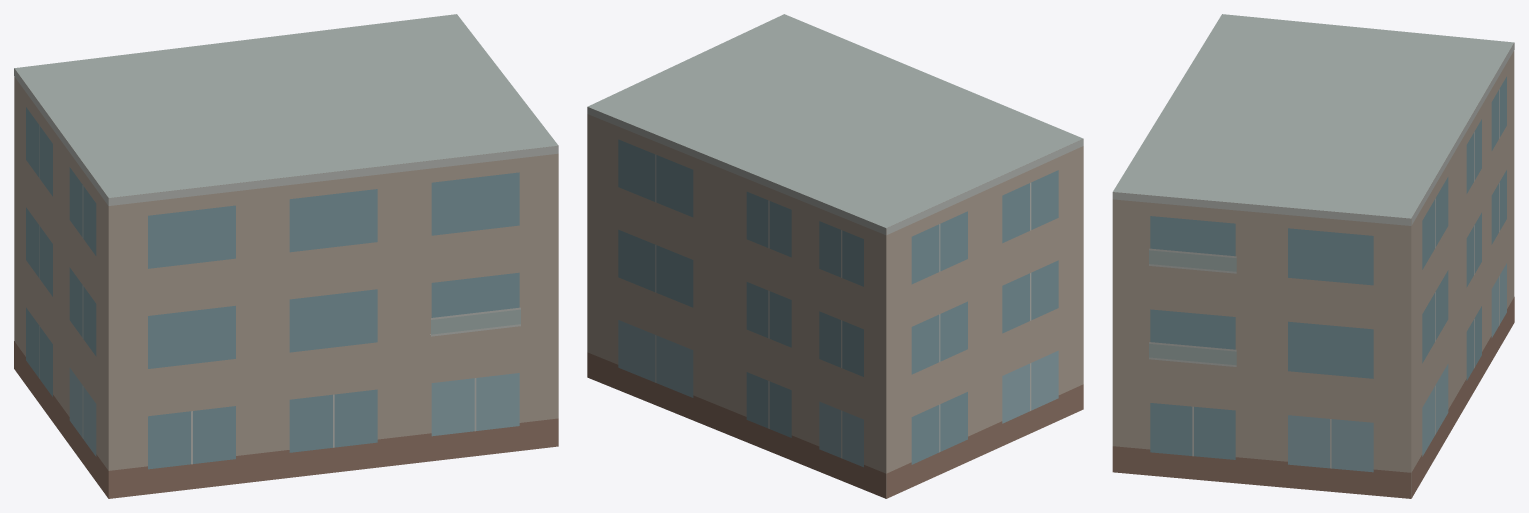
Rendered from survey-upis-33018484.glb.
The picture shows the model from 3 angles, left to right: view 1: azimuth 30°, elevation 25°; view 2: azimuth 150°, elevation 25°; view 3: azimuth 270°, elevation 25°; orthographic projection. The views are drawn at different scales.
Parts seen in each view (by area): view 1: survey-upis-33018484.tmp; view 2: survey-upis-33018484.tmp; view 3: survey-upis-33018484.tmp.
Part boxes in pixels (left/top/right/bottom): survey-upis-33018484.tmp: left=14, top=14, right=558, bottom=498; survey-upis-33018484.tmp: left=587, top=14, right=1083, bottom=498; survey-upis-33018484.tmp: left=1112, top=14, right=1514, bottom=498.
Bounding box in the file's own units: 14.33 × 9.15 × 11.9.
